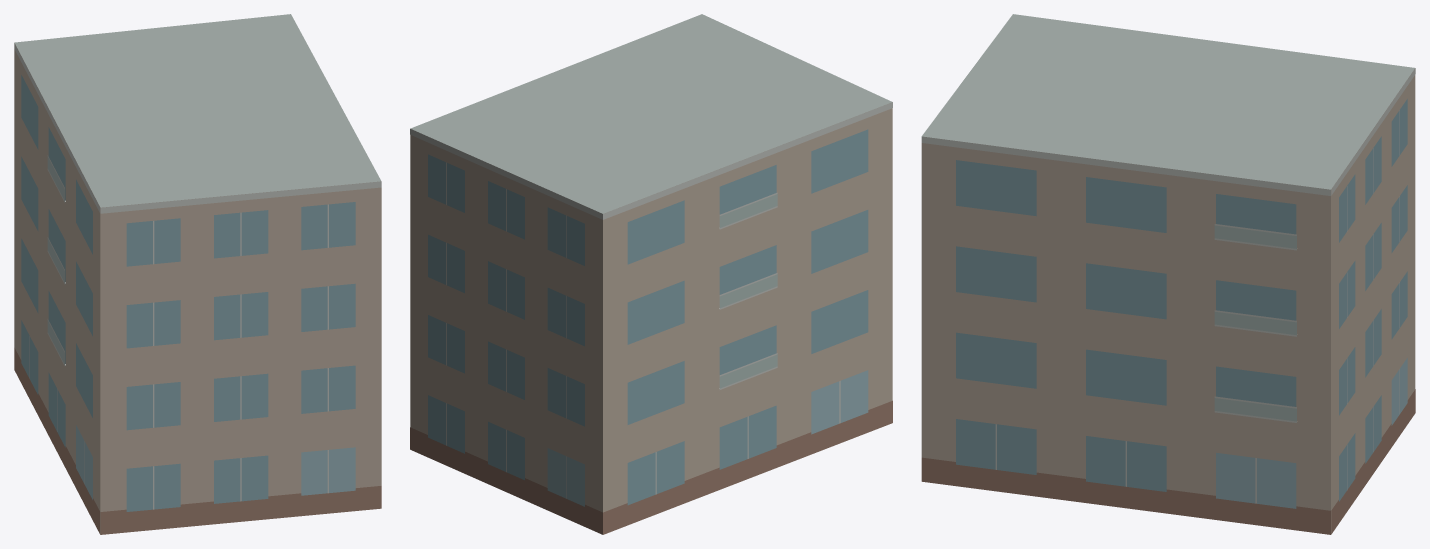
File: survey-upis-32940037.glb
3 views of the same model, side by side, from view 1: azimuth 30°, elevation 25°; view 2: azimuth 150°, elevation 25°; view 3: azimuth 270°, elevation 25° (orthographic). The views are drawn at different scales.
Visible parts, largest first — view 1: survey-upis-32940037.tmp; view 2: survey-upis-32940037.tmp; view 3: survey-upis-32940037.tmp.
Boxes of the visible parts, x1,y1,x2,y2 form: survey-upis-32940037.tmp: [14, 14, 381, 534]; survey-upis-32940037.tmp: [410, 14, 892, 534]; survey-upis-32940037.tmp: [921, 14, 1415, 534].
Bounding box in the file's own units: 14.2 × 13 × 16.87.
